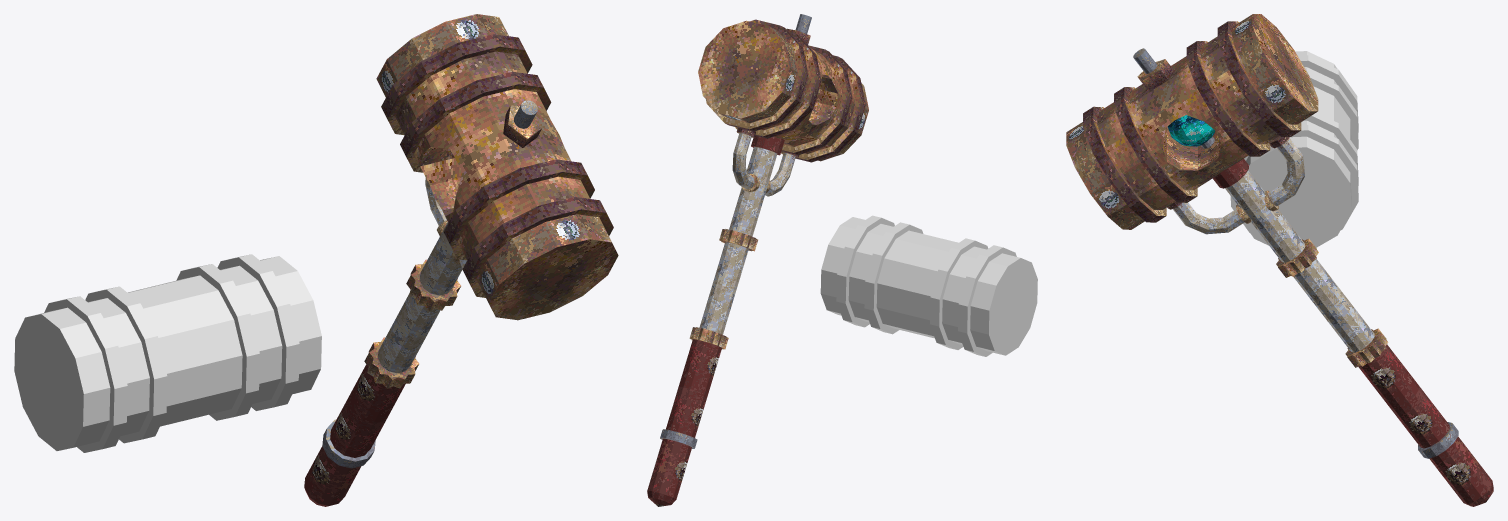
Rendered from overheatHammerColor.fbx.
3 renders of one model, left to right at view 1: azimuth 30°, elevation 25°; view 2: azimuth 150°, elevation 25°; view 3: azimuth 270°, elevation 25°, orthographic. The views are drawn at different scales.
Visible parts, largest first — view 1: cylinder, hammerHead, Handle, cog1, cog2, topScrew; view 2: cylinder, hammerHead, Handle, leftSupport, rightSupport, cog1, cog2; view 3: hammerHead, Handle, cylinder, leftSupport, rightSupport, core, cog2, cog1, topScrew, hammerBase.
Part boxes in pixels (x1,y1,x2,y2): cylinder: [14, 254, 321, 452]; hammerHead: [376, 14, 618, 320]; Handle: [304, 222, 462, 506]; cog1: [406, 259, 460, 310]; cog2: [364, 337, 419, 388]; topScrew: [503, 105, 541, 147]; cylinder: [820, 215, 1037, 356]; hammerHead: [698, 19, 868, 162]; Handle: [647, 146, 777, 506]; leftSupport: [732, 128, 755, 189]; rightSupport: [765, 151, 799, 196]; cog1: [719, 229, 757, 251]; cog2: [689, 327, 728, 349]; hammerHead: [1066, 14, 1318, 229]; Handle: [1225, 170, 1493, 506]; cylinder: [1230, 51, 1358, 247]; leftSupport: [1268, 136, 1304, 206]; rightSupport: [1167, 201, 1244, 234]; core: [1167, 115, 1215, 146]; cog2: [1345, 328, 1388, 367]; cog1: [1276, 238, 1318, 277]; topScrew: [1137, 59, 1173, 90]; hammerBase: [1213, 159, 1248, 188].
Size of the model in its own units: 381 by 469 by 375.
Materials: 5 (5 with a texture image).
